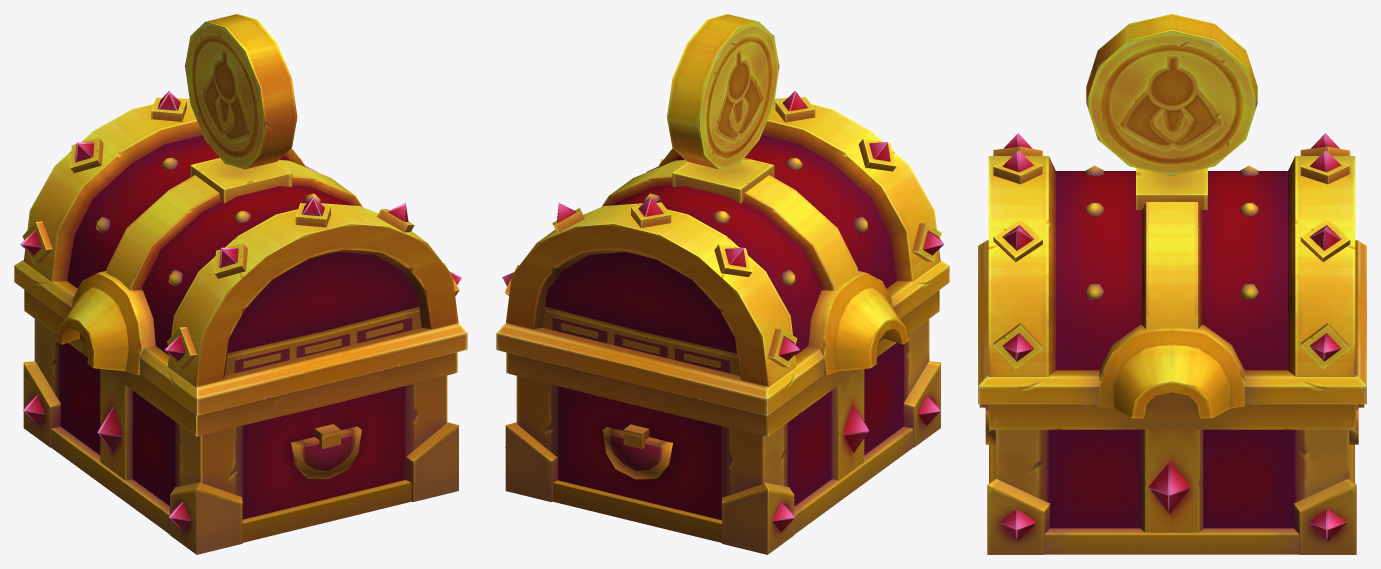
The model's file is scenes_common_chest02.FBX.
3 views of the same model, side by side, from view 1: azimuth 30°, elevation 25°; view 2: azimuth 150°, elevation 25°; view 3: azimuth 270°, elevation 25° (orthographic). The views are drawn at different scales.
Parts seen in each view (by area): view 1: scenes_common_chest02; view 2: scenes_common_chest02; view 3: scenes_common_chest02.
Boxes of the visible parts, <box> form: scenes_common_chest02: <box>14,14,467,554</box>; scenes_common_chest02: <box>496,14,949,554</box>; scenes_common_chest02: <box>978,14,1366,554</box>.
Bounding box in the file's own units: 42.1 × 52.63 × 39.92.
